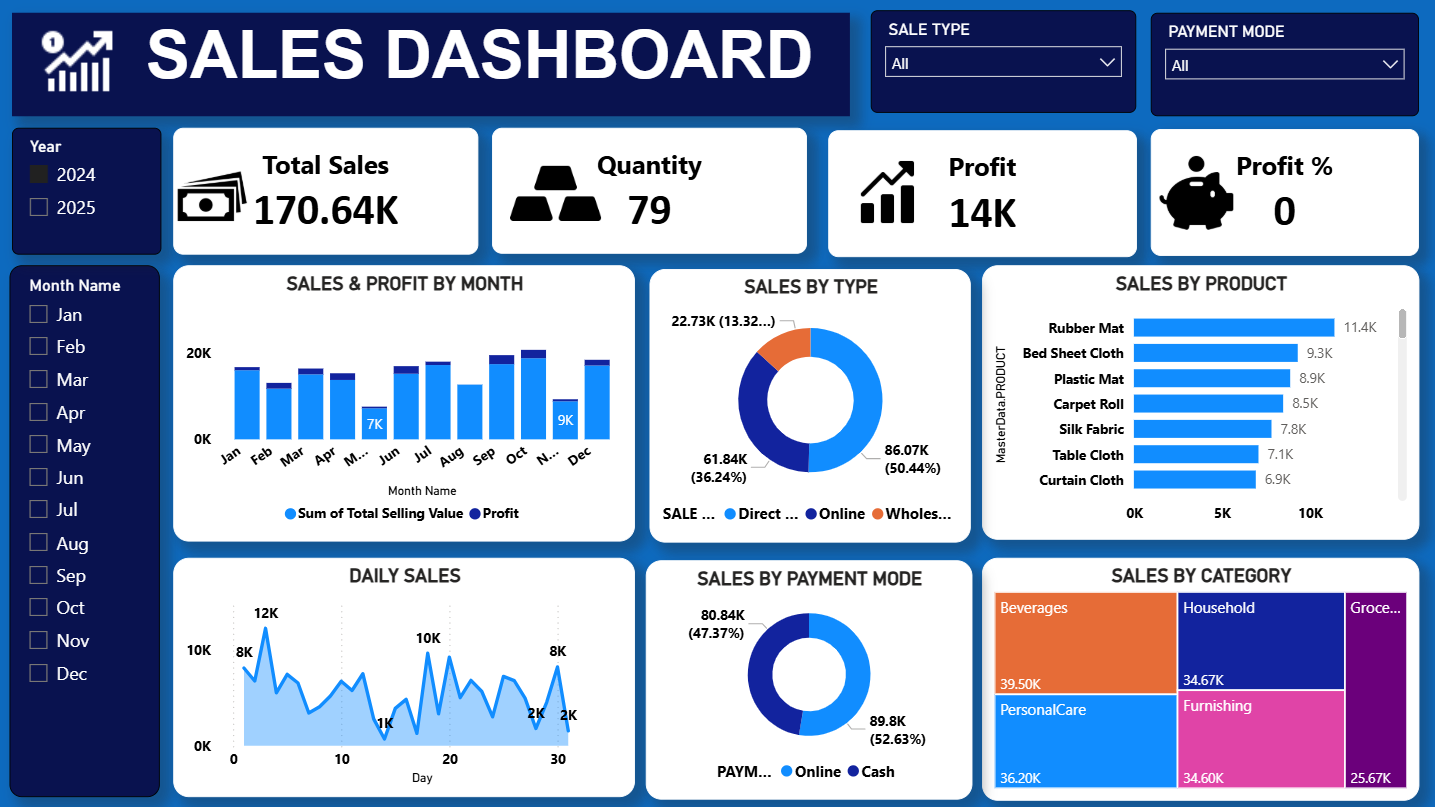

Layout of this report page (visuals, bound fields, positions):
{"tool":"powerbi","page":{"name":"Page 1","canvas":[1280,720],"ordinal":0},"visuals":[{"type":"textbox","box":[13.3,11.7,745,91.7],"z":0},{"type":"slicer","fields":{"Values":["InputData.Month Name"]},"box":[11.6,236.3,133.5,472.6],"z":1000},{"type":"slicer","fields":{"Values":["InputData.SALE TYPE"]},"box":[777.1,10,235.7,91.4],"z":2000},{"type":"slicer","fields":{"Values":["InputData.PAYMENT MODE"]},"box":[1025,11.7,238.3,91.7],"z":3000},{"type":"slicer","fields":{"Values":["InputData.Year"]},"box":[12.9,114.3,132.9,112.9],"z":4000},{"type":"cardVisual","fields":{"Data":["Sum(InputData.Total Selling Value)"]},"box":[157.1,114.3,271.4,112.9],"z":5000},{"type":"cardVisual","fields":{"Data":["Sum(InputData.QUANTITY)"]},"box":[440,114.4,280,112.2],"z":6000},{"type":"cardVisual","fields":{"Data":["InputData.Profit"]},"box":[738.6,117.1,274.3,112.9],"z":7000},{"type":"cardVisual","fields":{"Data":["InputData.Profit %"]},"box":[1025.7,115.7,238.6,112.9],"z":8000},{"type":"image","box":[147.1,142.9,90,64.3],"z":9000},{"type":"image","box":[453.3,115.6,86.7,114.4],"z":10000},{"type":"image","box":[757.1,140,70,62.9],"z":11000},{"type":"image","box":[1032.9,121.4,65.7,102.9],"z":12000},{"type":"columnChart","title":"SALES & PROFIT BY MONTH","fields":{"Y":["Sum(InputData.Total Selling Value)","InputData.Profit"],"Category":["InputData.Month Name"]},"box":[156.1,236.4,410.4,245.4],"z":13000},{"type":"image","box":[13.3,20,114.4,70],"z":14000},{"type":"areaChart","title":"DAILY SALES","fields":{"Category":["InputData.Day"],"Y":["Sum(InputData.Total Selling Value)"]},"box":[156.1,496.7,410.4,212.6],"z":15000},{"type":"clusteredBarChart","title":"SALES BY PRODUCT","fields":{"Y":["Sum(InputData.Total Selling Value)"],"Category":["InputData.MasterData.PRODUCT"]},"box":[875.7,237.1,388.6,244.3],"z":16000},{"type":"treemap","title":"SALES BY CATEGORY","fields":{"Values":["Sum(InputData.Total Selling Value)"],"Group":["InputData.MasterData.CATEGORY"]},"box":[875.7,497.1,388.6,215.7],"z":17000},{"type":"donutChart","title":"SALES BY TYPE","fields":{"Y":["Sum(InputData.Total Selling Value)"],"Category":["InputData.SALE TYPE"]},"box":[580,240,285.7,242.9],"z":18000},{"type":"donutChart","title":"SALES BY PAYMENT MODE","fields":{"Y":["Sum(InputData.Total Selling Value)"],"Category":["InputData.PAYMENT MODE"]},"box":[577.1,498.6,290,212.9],"z":19000}]}

Visuals, with their boxes in screenshot pixels (x1, y1, x2, y2), scaled from the page's 1280x720 canvas onto the 1435x807 screenshot:
textbox: bbox=[15, 13, 850, 116]
slicer - InputData.Month Name: bbox=[13, 265, 163, 795]
slicer - InputData.SALE TYPE: bbox=[871, 11, 1135, 114]
slicer - InputData.PAYMENT MODE: bbox=[1149, 13, 1416, 116]
slicer - InputData.Year: bbox=[14, 128, 163, 255]
cardVisual - Sum(InputData.Total Selling Value): bbox=[176, 128, 480, 255]
cardVisual - Sum(InputData.QUANTITY): bbox=[493, 128, 807, 254]
cardVisual - InputData.Profit: bbox=[828, 131, 1136, 258]
cardVisual - InputData.Profit %: bbox=[1150, 130, 1417, 256]
image: bbox=[165, 160, 266, 232]
image: bbox=[508, 130, 605, 258]
image: bbox=[849, 157, 927, 227]
image: bbox=[1158, 136, 1232, 251]
"SALES & PROFIT BY MONTH" columnChart: bbox=[175, 265, 635, 540]
image: bbox=[15, 22, 143, 101]
"DAILY SALES" areaChart: bbox=[175, 557, 635, 795]
"SALES BY PRODUCT" clusteredBarChart: bbox=[982, 266, 1417, 540]
"SALES BY CATEGORY" treemap: bbox=[982, 557, 1417, 799]
"SALES BY TYPE" donutChart: bbox=[650, 269, 971, 541]
"SALES BY PAYMENT MODE" donutChart: bbox=[647, 559, 972, 797]
